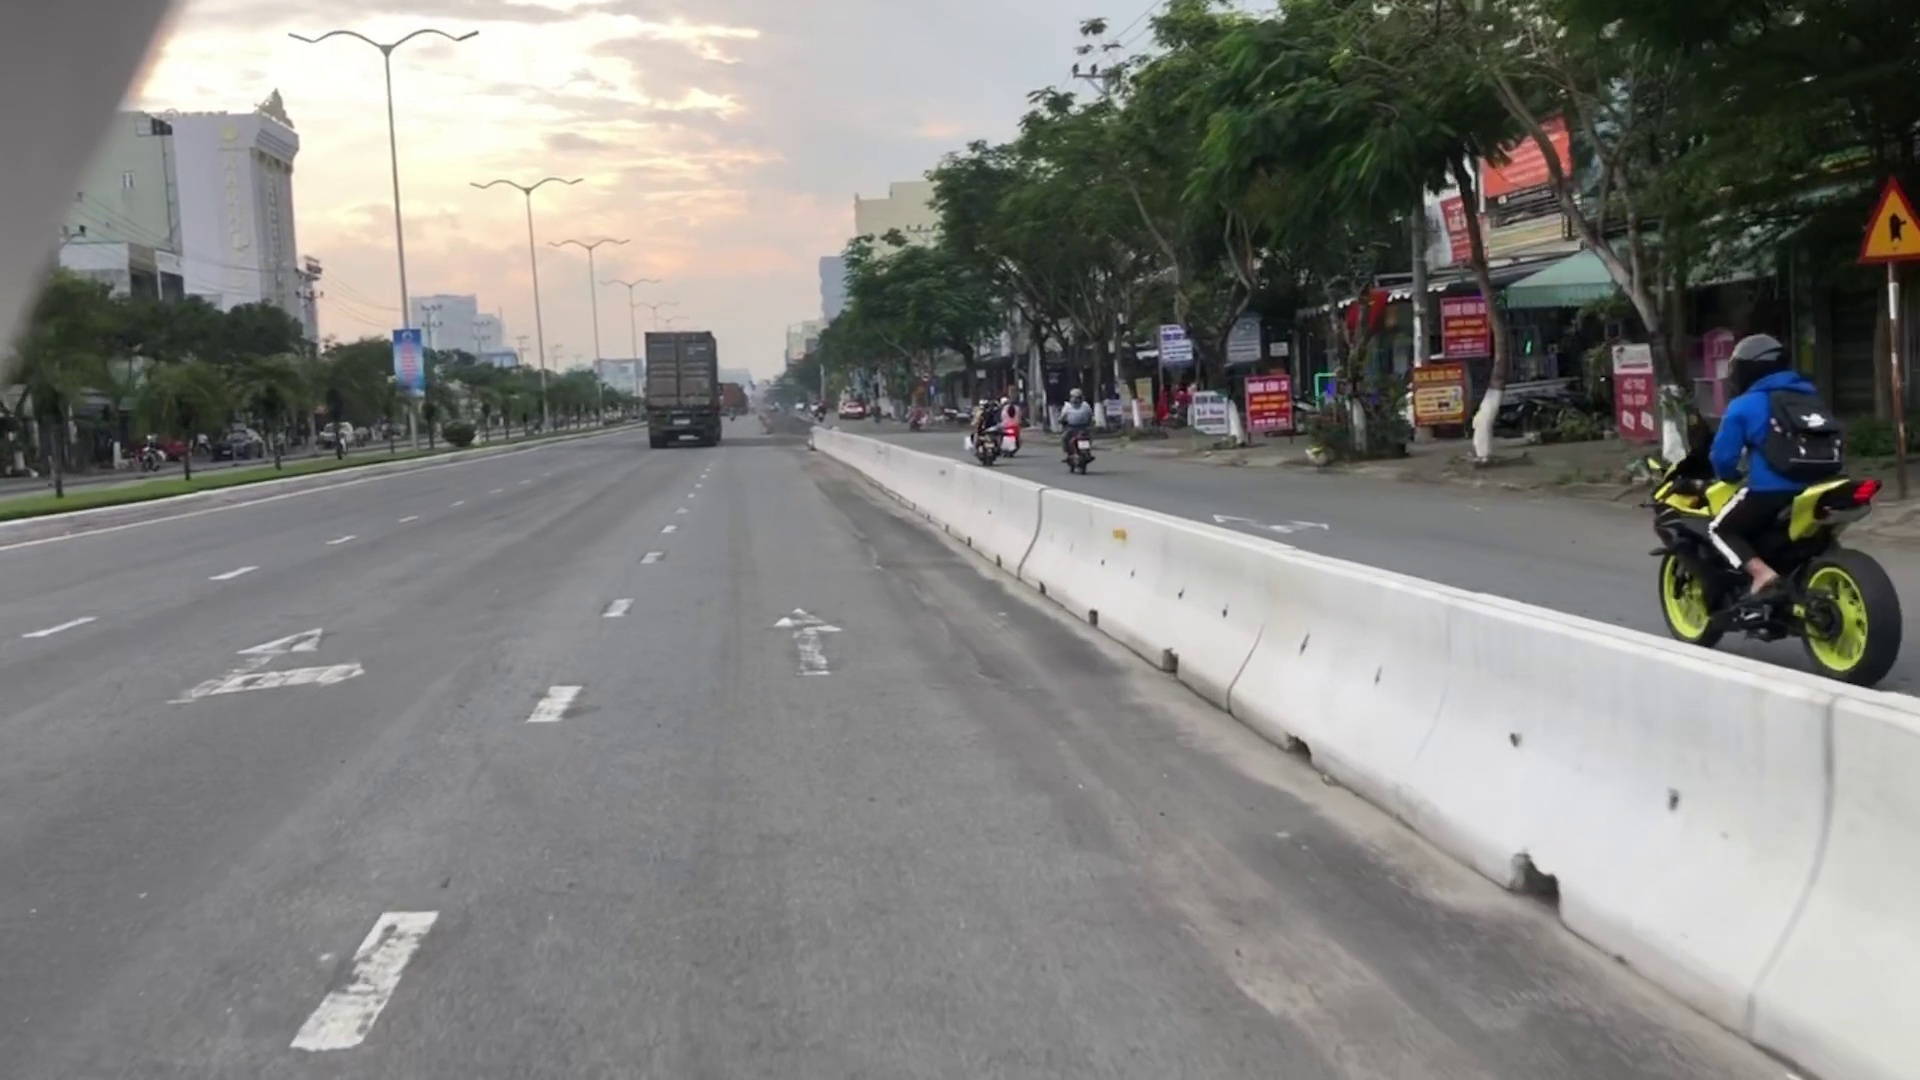Giao nhau voi duong khong uu tien: (1851, 174, 1920, 261)
